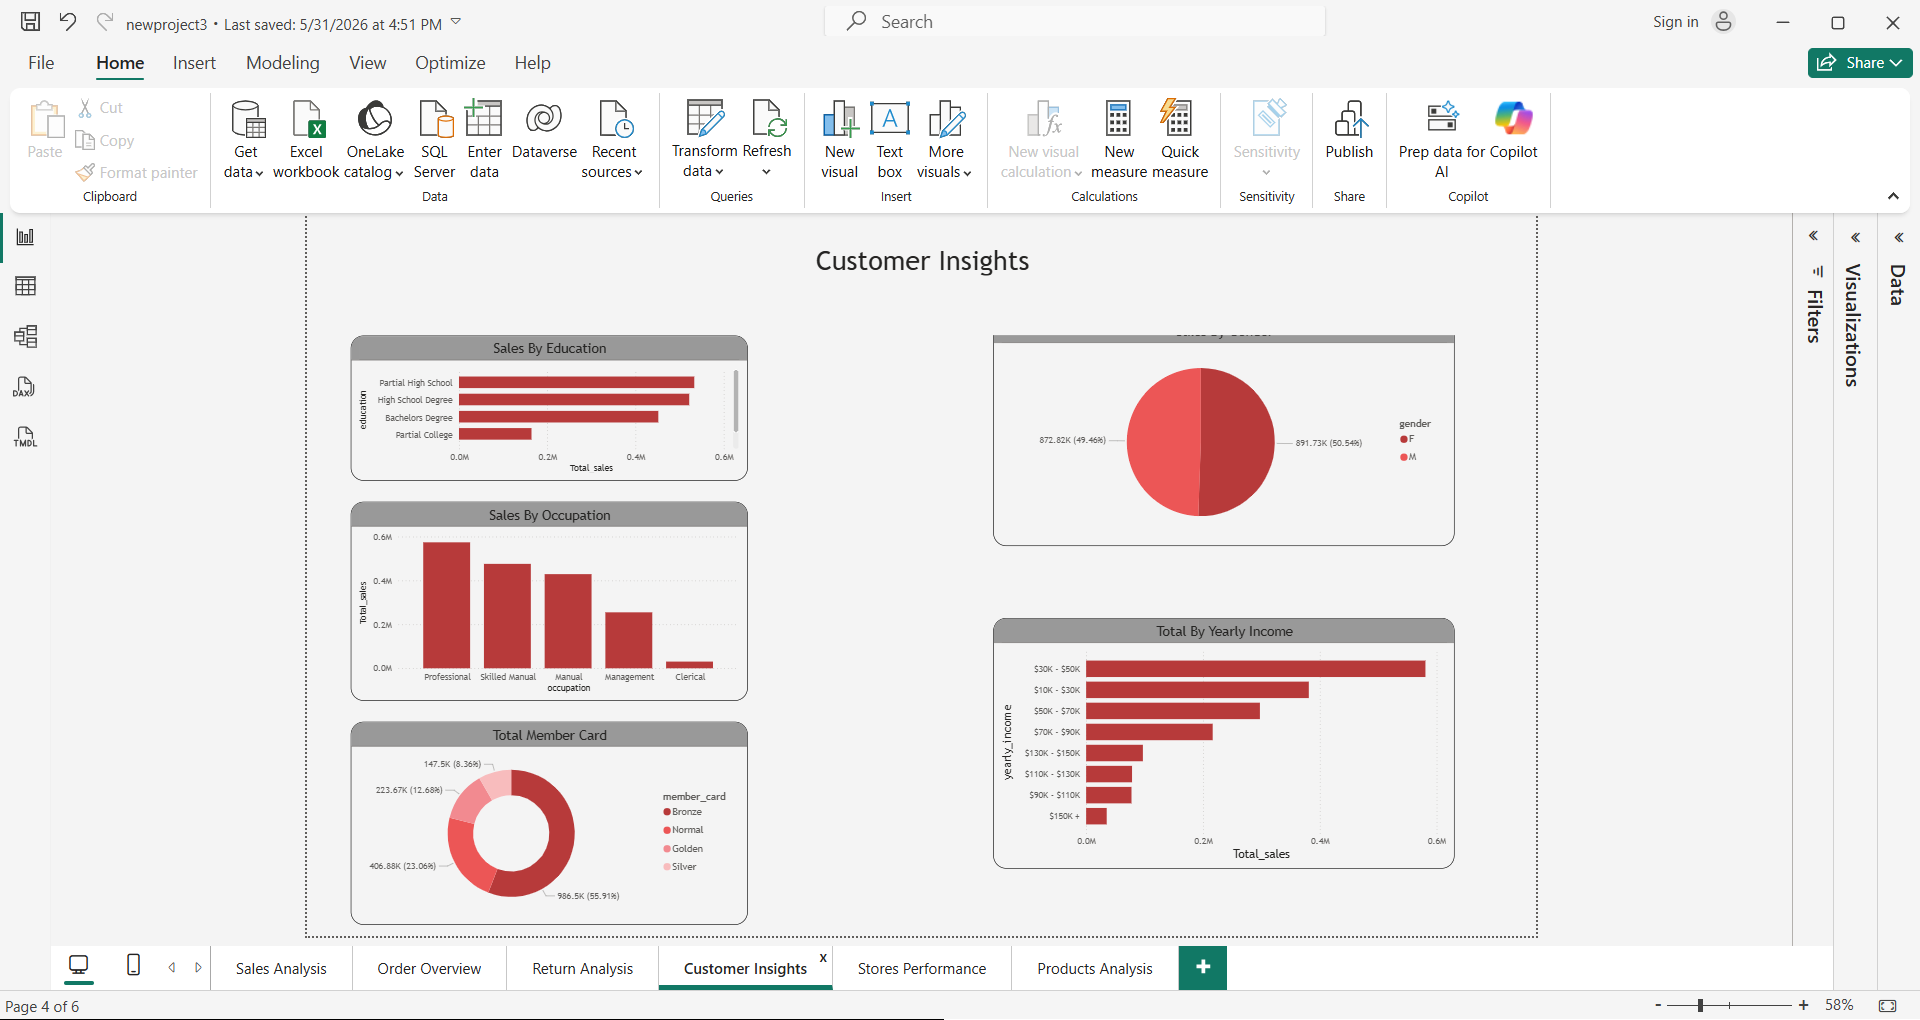

The dashboard page shown, as its layout file describes it:
{"tool":"powerbi","page":{"name":"Customer Insights ","canvas":[1700,1000],"ordinal":3},"visuals":[{"type":"clusteredBarChart","title":"Sales By Education","fields":{"Category":["Customers.education"],"Y":["Transaction1997.Total_sales"]},"box":[60.1,169.5,548.6,200.5],"z":0},{"type":"columnChart","title":"Sales By Occupation ","fields":{"Y":["Transaction1997.Total_sales"],"Category":["Customers.occupation"]},"box":[60.1,399.1,548.6,275.2],"z":1000},{"type":"donutChart","title":"Total Member Card ","fields":{"Category":["Customers.member_card"],"Y":["Transaction1997.Total_sales"]},"box":[60.1,703.5,548.6,280.7],"z":2000},{"type":"pieChart","title":"Sales By Gender","fields":{"Y":["Transaction1997.Total_sales"],"Category":["Customers.gender"]},"box":[947.7,145.8,637.9,315.3],"z":3000},{"type":"barChart","title":"Total By Yearly Income ","fields":{"Category":["Customers.yearly_income"],"Y":["Transaction1997.Total_sales"]},"box":[947.7,559.5,637.9,346.3],"z":4000},{"type":"textbox","title":"Customer Insights","box":[54.7,43.7,1591,125.8],"z":5000}]}

Visuals, with their boxes on the page's 1700x1000 design canvas (x1, y1, x2, y2). These are canvas units, not pixel positions in the 1920x1020 screenshot, which may show the page scaled, cropped or inside an application window:
"Sales By Education" clusteredBarChart: region(60, 170, 609, 370)
"Sales By Occupation " columnChart: region(60, 399, 609, 674)
"Total Member Card " donutChart: region(60, 704, 609, 984)
"Sales By Gender" pieChart: region(948, 146, 1586, 461)
"Total By Yearly Income " barChart: region(948, 560, 1586, 906)
"Customer Insights" textbox: region(55, 44, 1646, 170)
